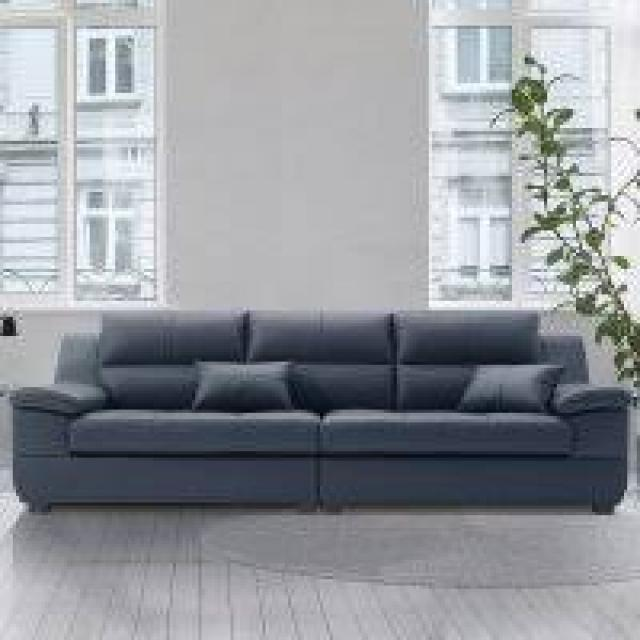Sofa: (0, 282, 640, 563)
